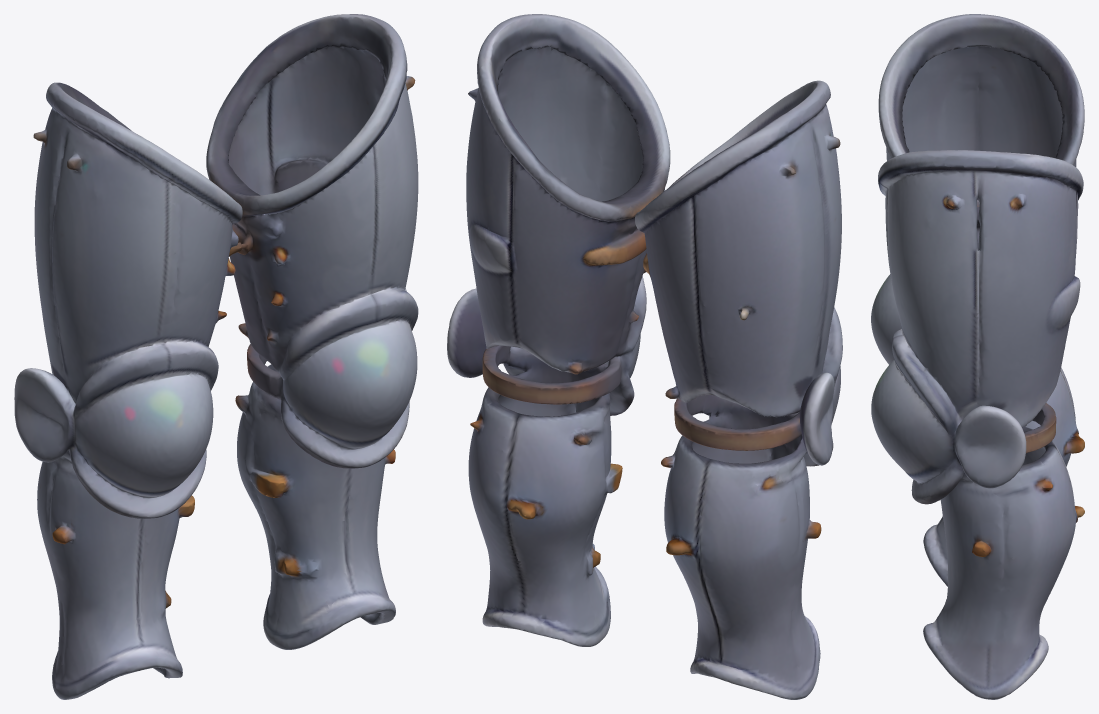
File: calca-guerreiro.glb
3 views of the same model, side by side, from view 1: azimuth 30°, elevation 25°; view 2: azimuth 150°, elevation 25°; view 3: azimuth 270°, elevation 25° (orthographic). The views are drawn at different scales.
Visible parts, largest first — view 1: tripo_node_87190bf8-aa2e-47ce-9bee-60b53f8eb02c.001; view 2: tripo_node_87190bf8-aa2e-47ce-9bee-60b53f8eb02c.001; view 3: tripo_node_87190bf8-aa2e-47ce-9bee-60b53f8eb02c.001.
Boxes of the visible parts, x1=… form: tripo_node_87190bf8-aa2e-47ce-9bee-60b53f8eb02c.001: x1=14, y1=14, x2=418, y2=699; tripo_node_87190bf8-aa2e-47ce-9bee-60b53f8eb02c.001: x1=447, y1=14, x2=842, y2=699; tripo_node_87190bf8-aa2e-47ce-9bee-60b53f8eb02c.001: x1=871, y1=14, x2=1084, y2=699.
Size of the model in its own units: 0.1854 by 0.2843 by 0.1007.
1 material, 1 textured.
